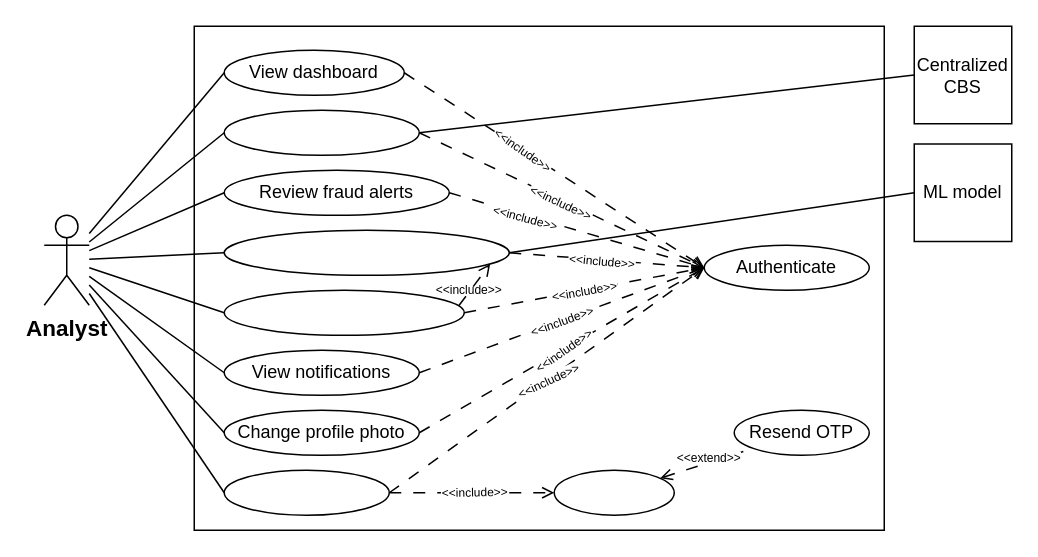
This 1038x557 diagram has some shape labels left out. The shapes that lost their labels are listed below. From the top down, each one's box as (x1, y1, x2, y2) in pixels, then its label:
(223, 109, 419, 155): View transactions
(223, 229, 509, 275): View ML metrics & config
(223, 289, 464, 335): Submit threshold report
(223, 469, 389, 515): Reset password
(553, 469, 674, 515): Verify OTP
